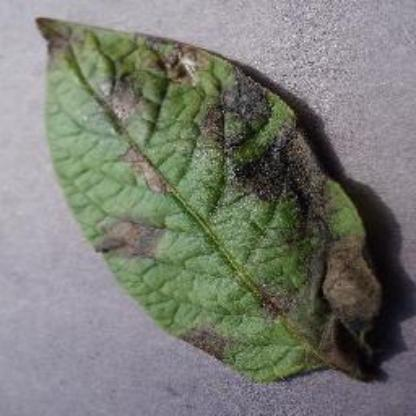Late-Blight: (27, 7, 407, 398)
